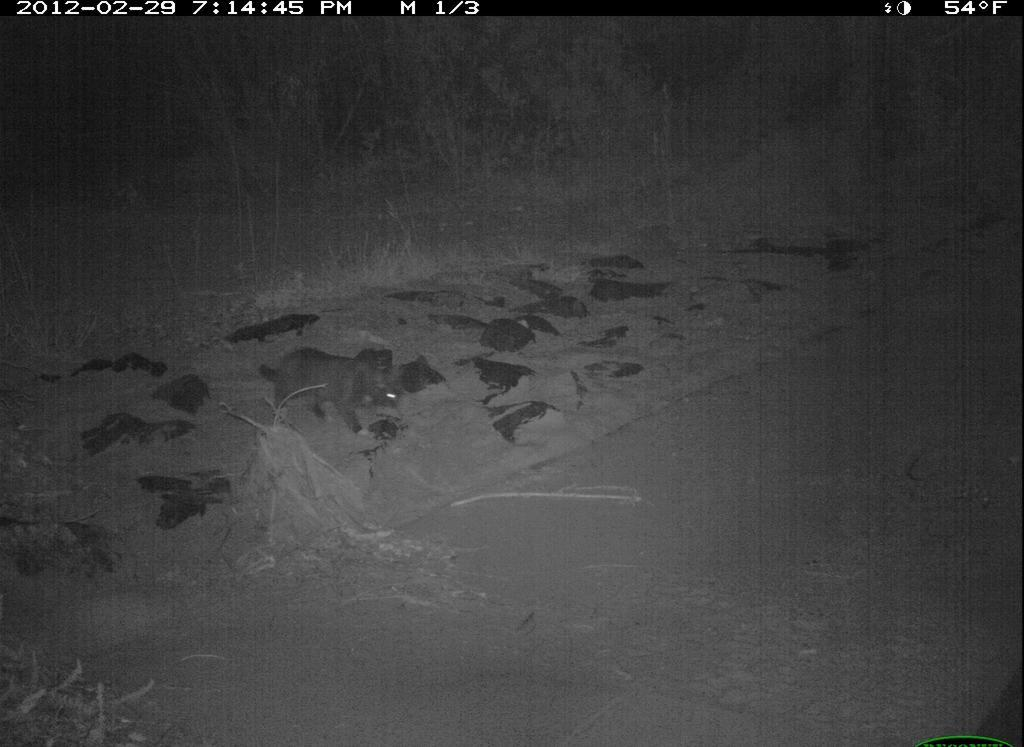cat: (258, 340, 417, 446)
